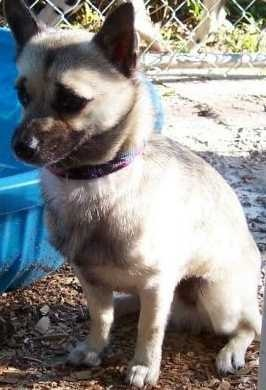dog: (7, 7, 243, 354)
